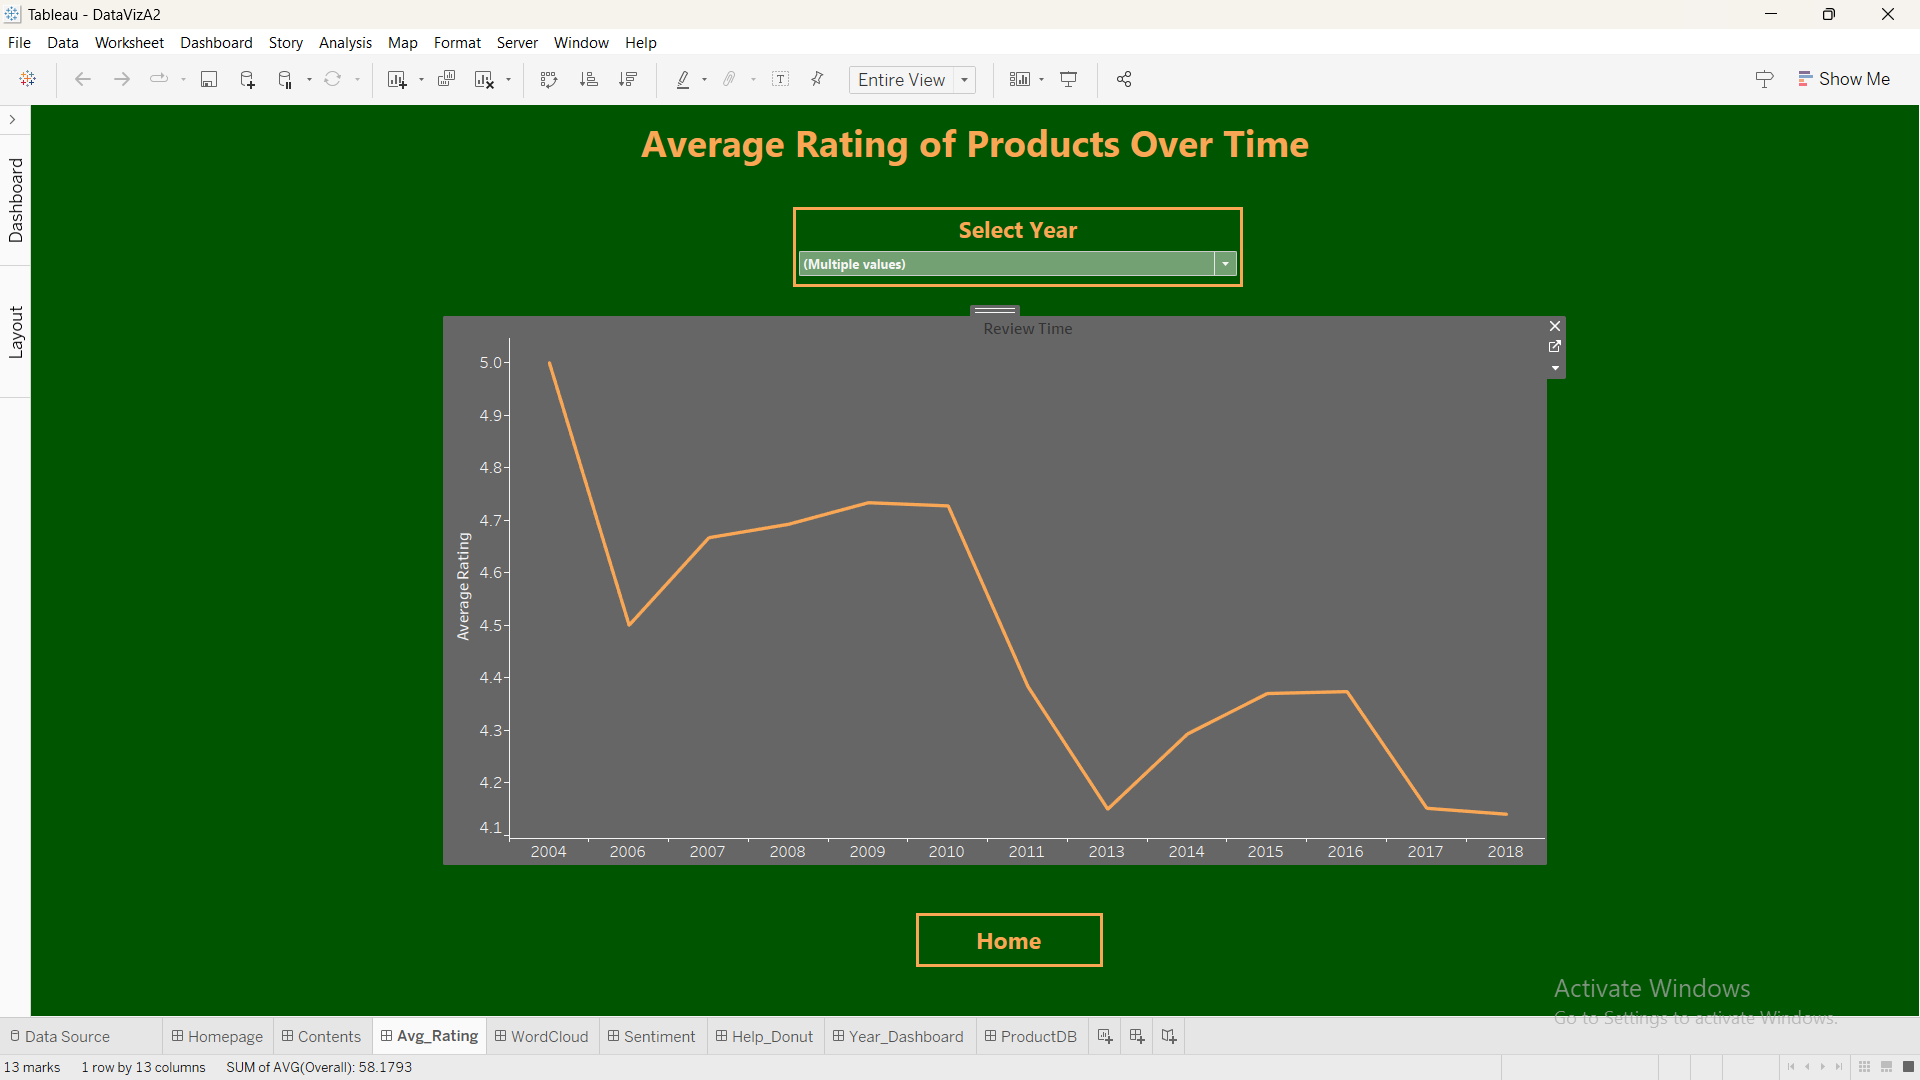

This screenshot's page, from the dashboard's own definition file:
{"tool":"tableau","page":{"name":"Avg_Rating","canvas":[1000,1000],"units":"permille","ordinal":0},"visuals":[{"type":"title","box":[4.8,8.8,990.3,63.7]},{"type":"filter","title":"Average_Rating","param":"[federated.183v5at0gkhiho137irmq1ghh51z].[yr:reviewTime:ok]","box":[403.7,112.3,238.4,88.2]},{"type":"worksheet","title":"Average_Rating","mark":"Automatic","rows":["overall"],"cols":["reviewTime"],"box":[219.1,233.7,583,597.9]},{"type":"dashboard-object","box":[468.9,886.6,99,59.6]}]}

Visuals, with their boxes on the dashboard's canvas, which has no fixed pixel size, in thousandths of its width and height (x1, y1, x2, y2). These are canvas units, not pixel positions in the 1920x1080 screenshot, which may show the page scaled, cropped or inside an application window:
title: {"x1": 5, "y1": 9, "x2": 995, "y2": 72}
"Average_Rating" filter: {"x1": 404, "y1": 112, "x2": 642, "y2": 200}
"Average_Rating" worksheet: {"x1": 219, "y1": 234, "x2": 802, "y2": 832}
dashboard-object: {"x1": 469, "y1": 887, "x2": 568, "y2": 946}
